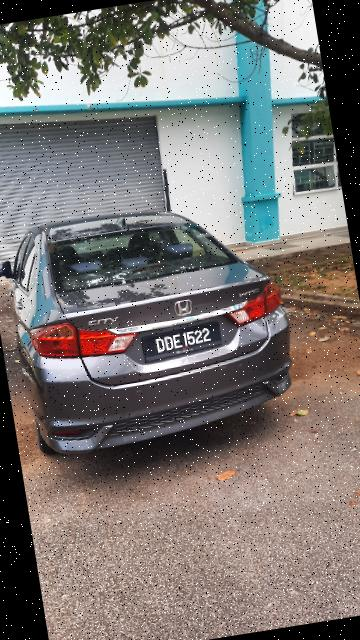License_Plate: (136, 320, 233, 366)
car: (1, 176, 307, 466)
